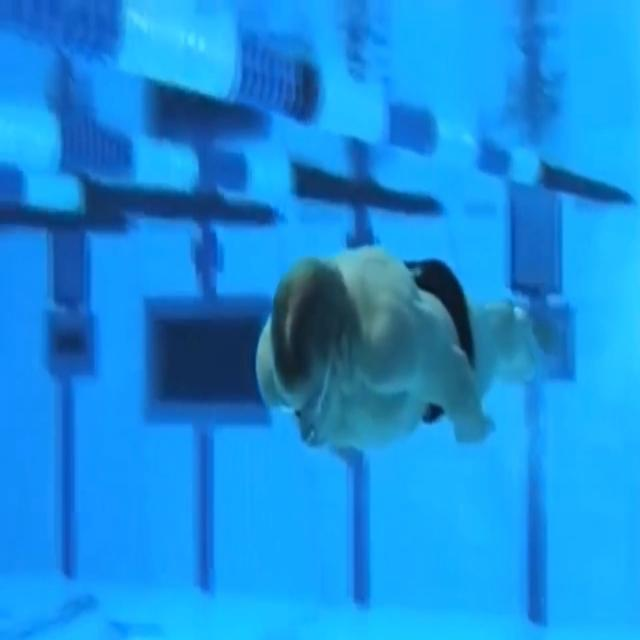Swimming: (258, 250, 550, 475)
